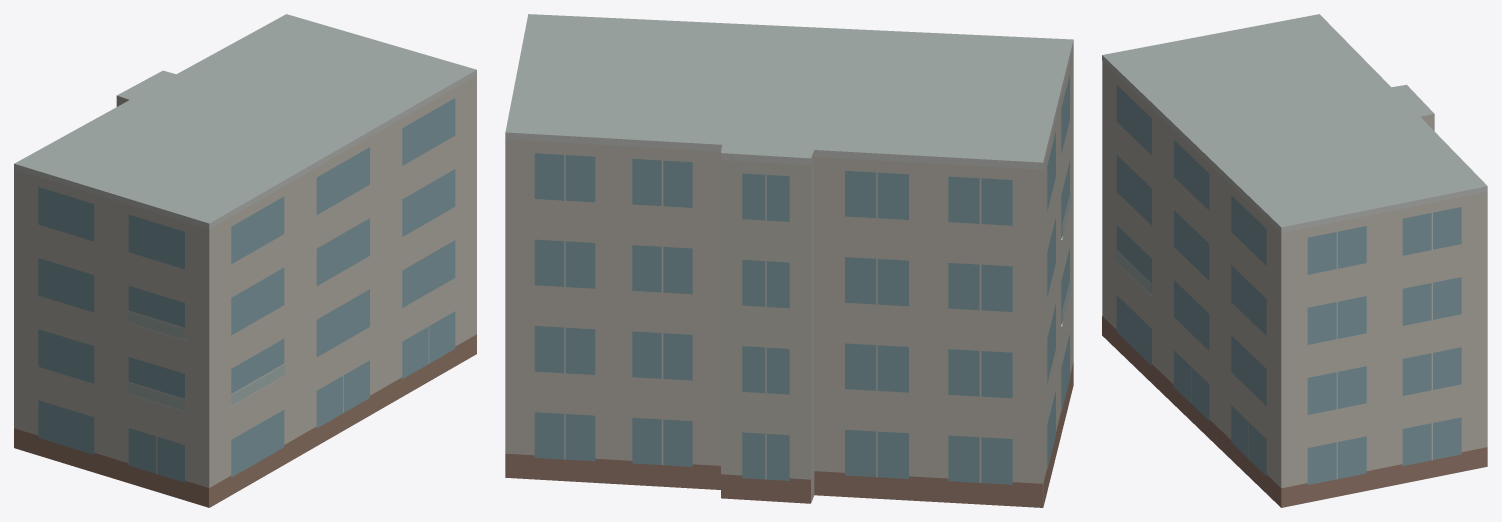
File: survey-upis-32740819.glb
3 views of the same model, side by side, from view 1: azimuth 30°, elevation 25°; view 2: azimuth 150°, elevation 25°; view 3: azimuth 270°, elevation 25° (orthographic). The views are drawn at different scales.
Parts seen in each view (by area): view 1: survey-upis-32740819.tmp; view 2: survey-upis-32740819.tmp; view 3: survey-upis-32740819.tmp.
Boxes of the visible parts, left/top/right/bottom form: survey-upis-32740819.tmp: left=14, top=14, right=476, bottom=507; survey-upis-32740819.tmp: left=505, top=14, right=1073, bottom=507; survey-upis-32740819.tmp: left=1102, top=14, right=1487, bottom=507.
Size of the model in its own units: 19.92 by 12.2 by 15.21.
